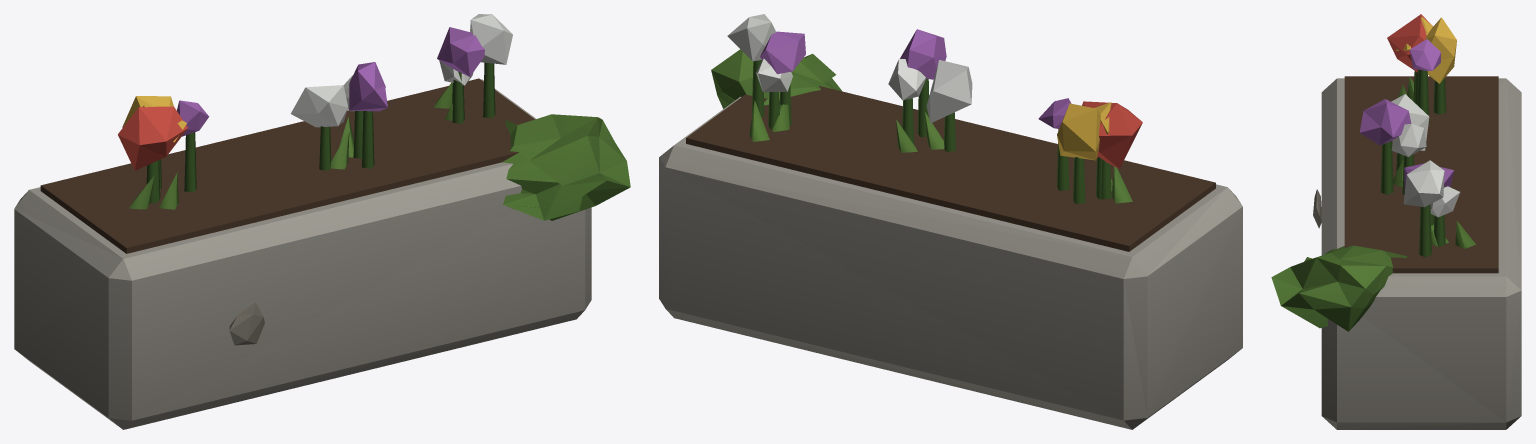
The model's file is flower-planter-01.glb.
3 renders of one model, left to right at view 1: azimuth 30°, elevation 25°; view 2: azimuth 150°, elevation 25°; view 3: azimuth 270°, elevation 25°, orthographic. The views are drawn at different scales.
Parts seen in each view (by area): view 1: flower_planter_01; view 2: flower_planter_01; view 3: flower_planter_01.
Part boxes in pixels (x1,y1,x2,y2): flower_planter_01: (14,14,630,429); flower_planter_01: (659,14,1242,429); flower_planter_01: (1271,14,1521,429).
Size of the model in its own units: 1.39 by 0.7189 by 0.6507.
